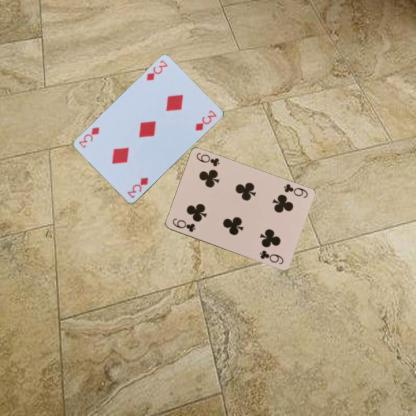3d: (124, 175, 150, 200), (144, 58, 169, 82)
6c: (281, 182, 309, 199), (170, 216, 196, 234)
